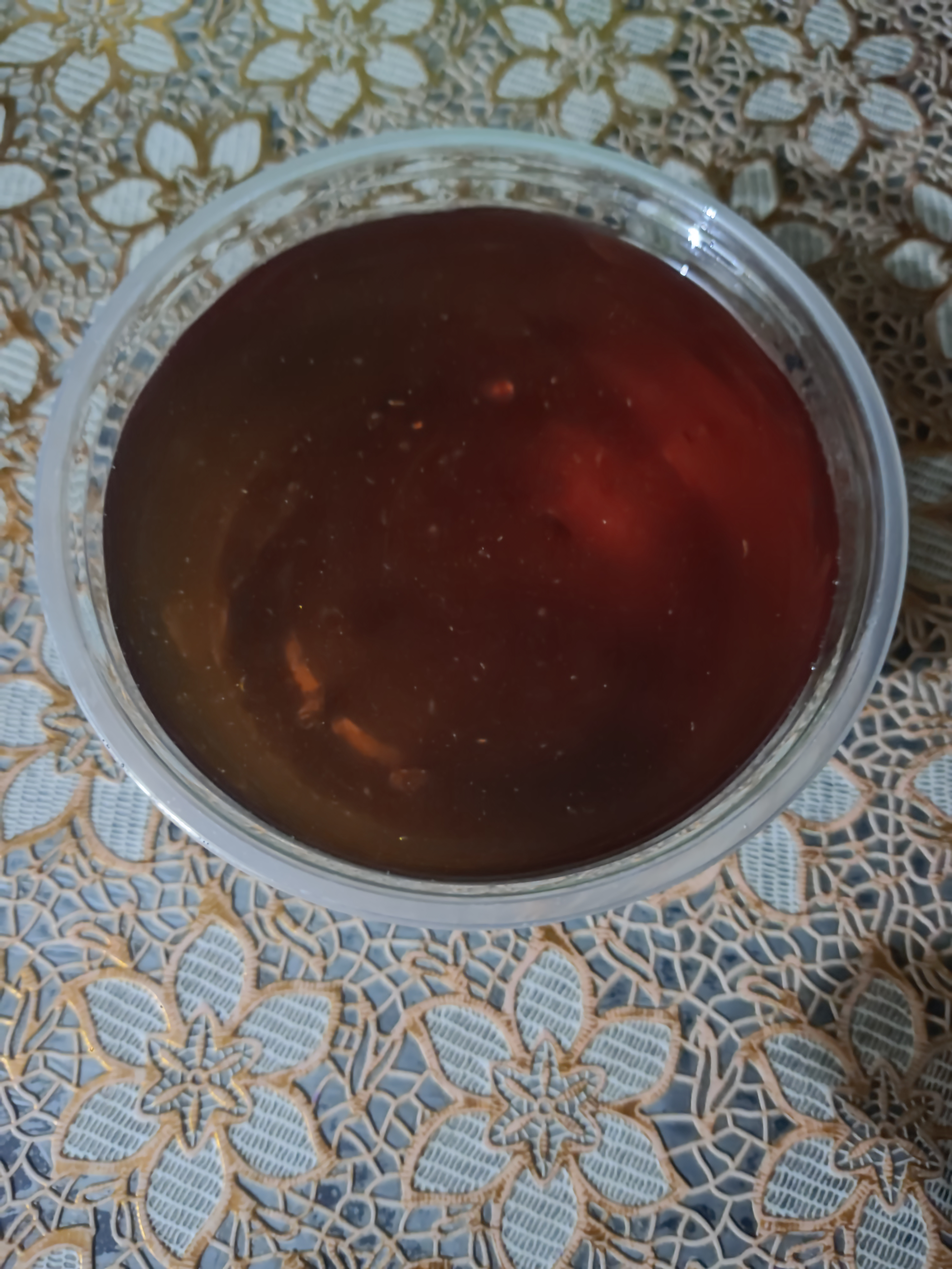non-reusable: (114, 213, 831, 876)
